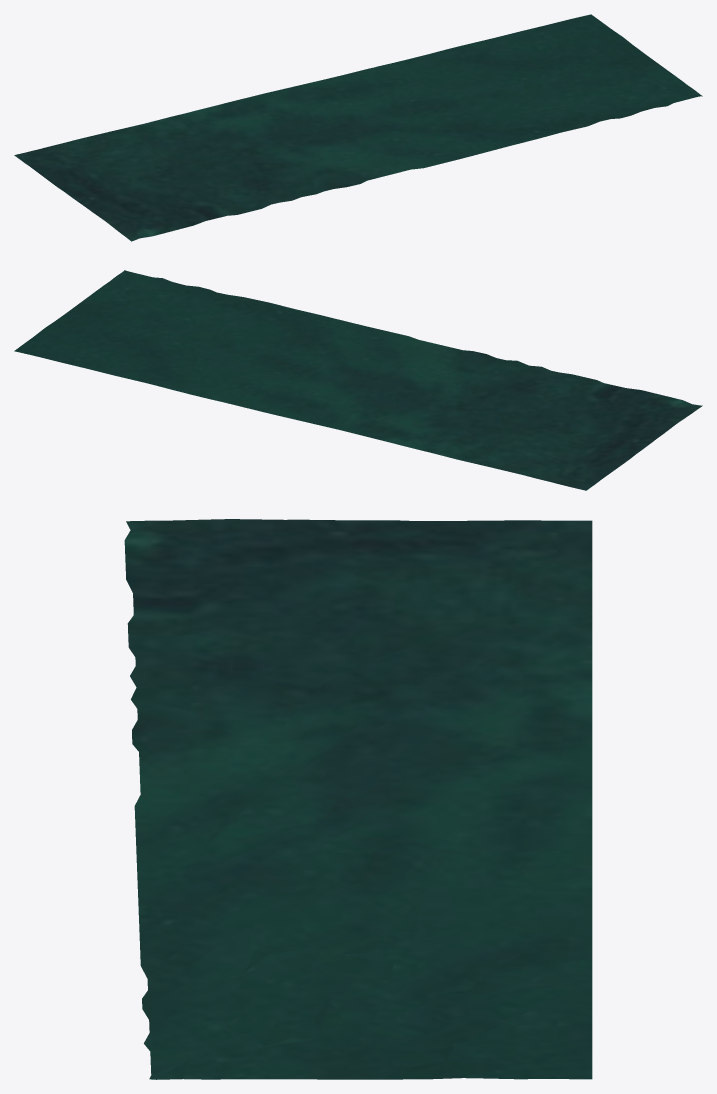
3 renders of one model, top to bottom at view 1: azimuth 30°, elevation 25°; view 2: azimuth 150°, elevation 25°; view 3: azimuth 270°, elevation 25°, orthographic. The views are drawn at different scales.
Size of the model in its own units: 209 by 0.6181 by 73.92.
1 material, 1 textured.
